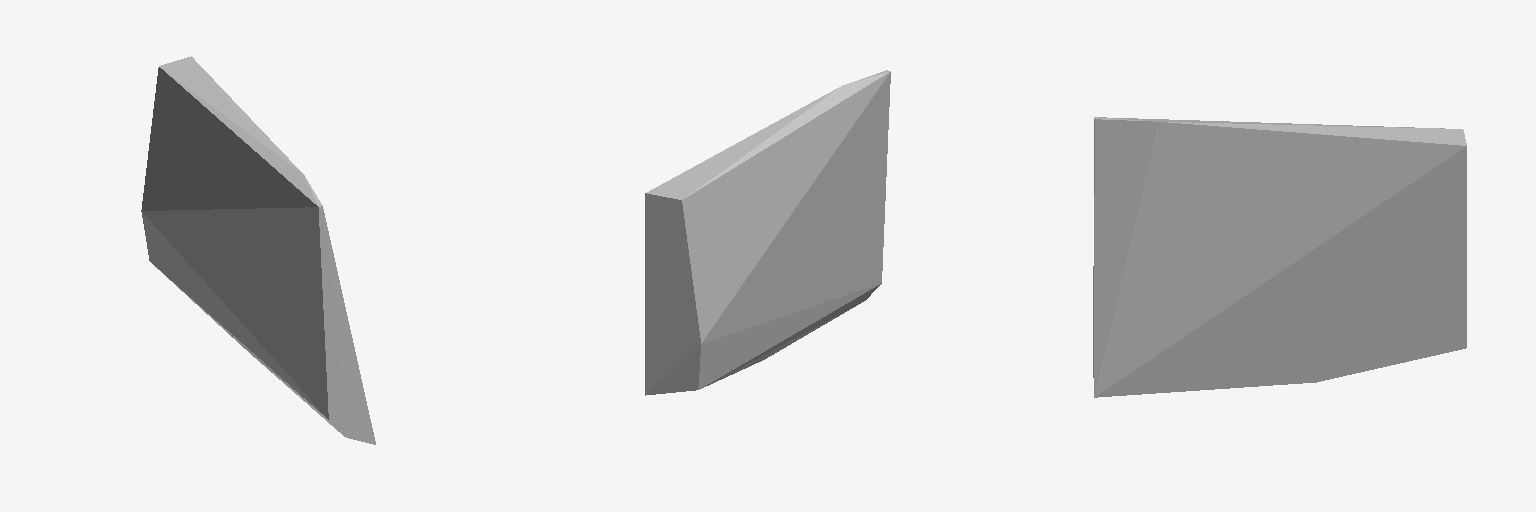
File: dish_rack_collision_2.obj
The picture shows the model from 3 angles: view 1: azimuth 30°, elevation 25°; view 2: azimuth 150°, elevation 25°; view 3: azimuth 270°, elevation 25°; orthographic projection.
Size of the model in its own units: 0.0136 by 0.0553 by 0.0731.